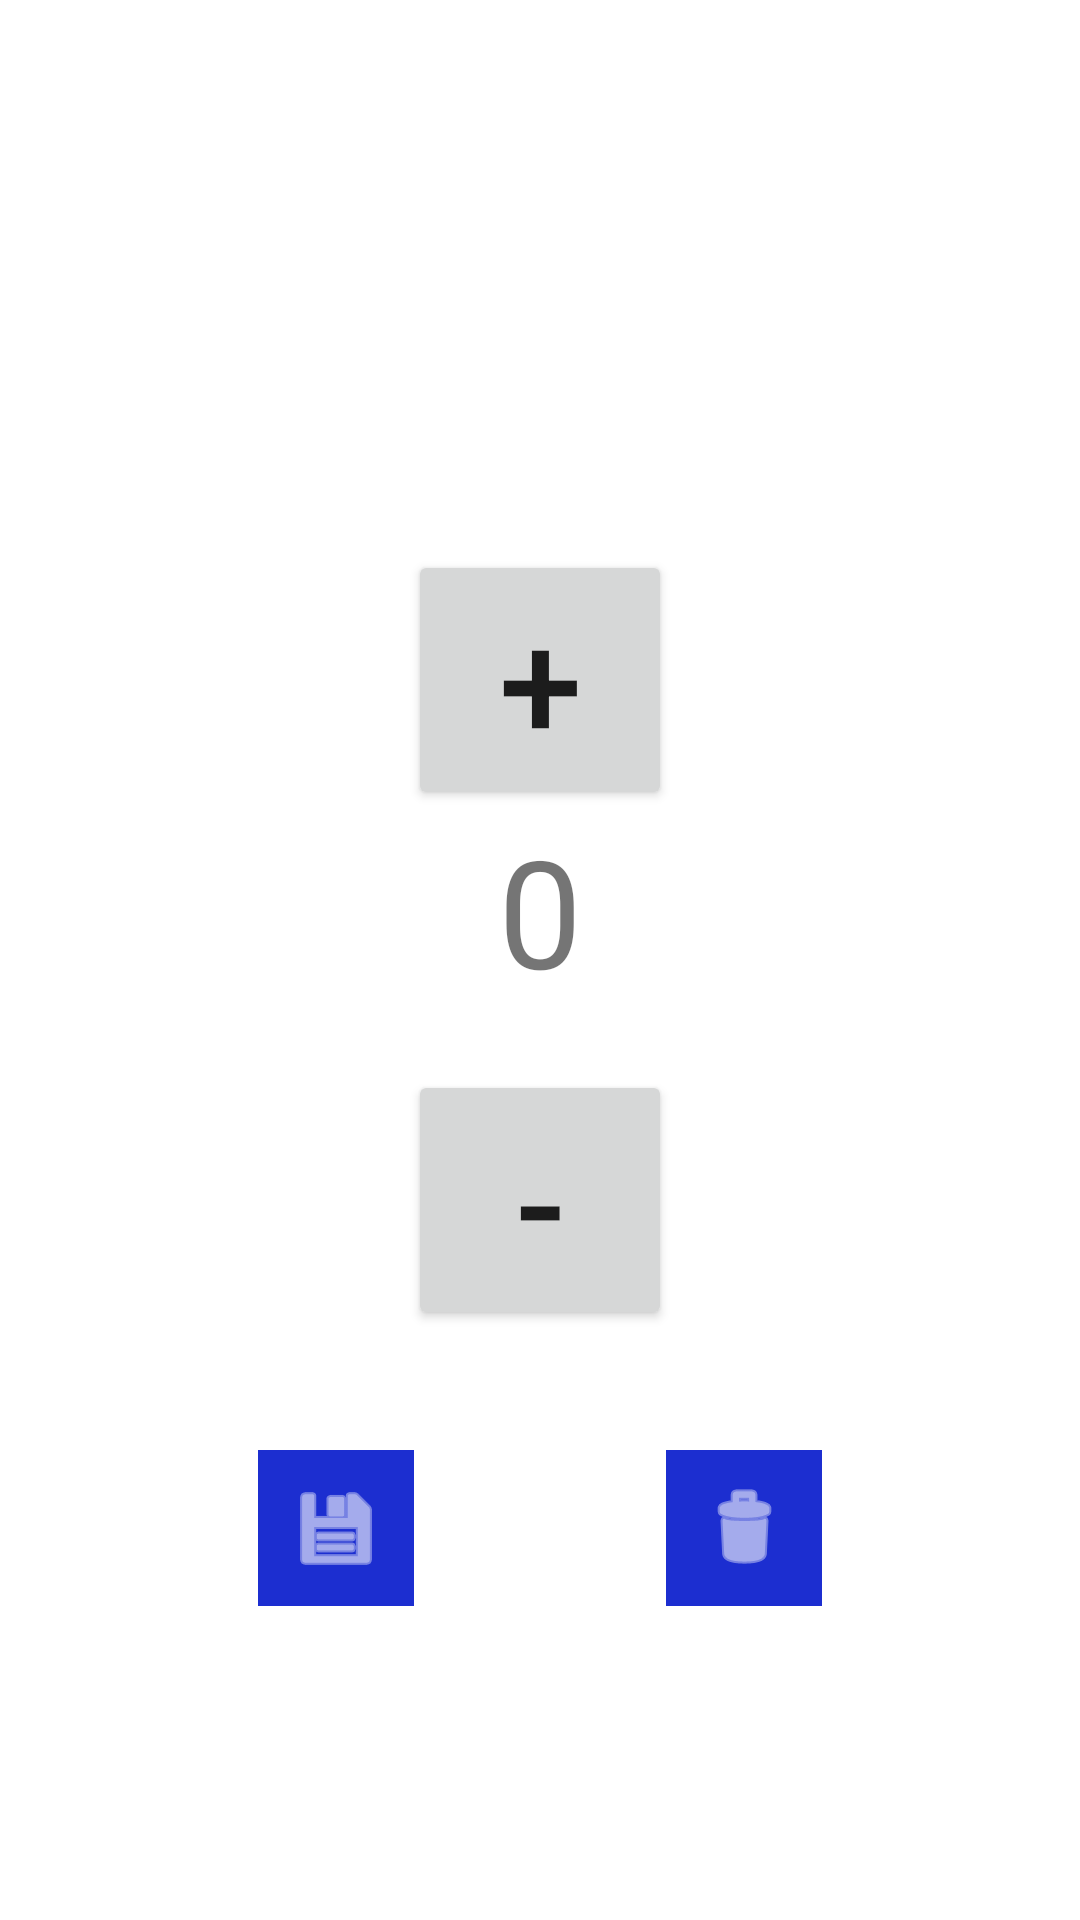

Named icons in this screenshot (1080 × 1920) and their bounding boxes, bbox(x1, y1, x2, y2):
delete: bbox(666, 1450, 822, 1606)
save: bbox(258, 1450, 414, 1606)
